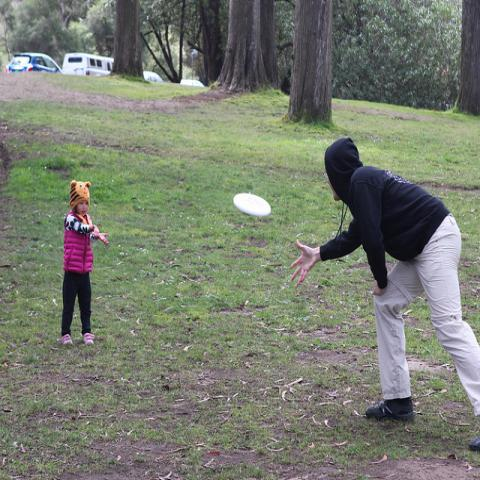car: (63, 54, 114, 77), (6, 55, 62, 73), (143, 70, 165, 83), (180, 78, 206, 87)
